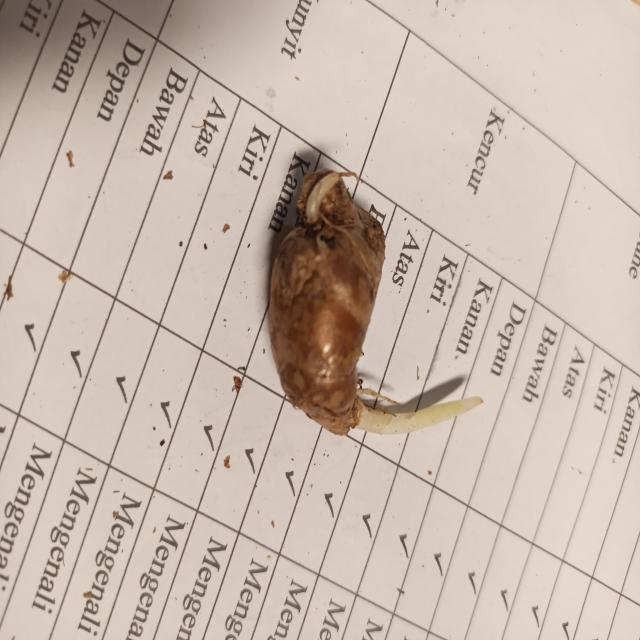ginger: (275, 170, 372, 415)
